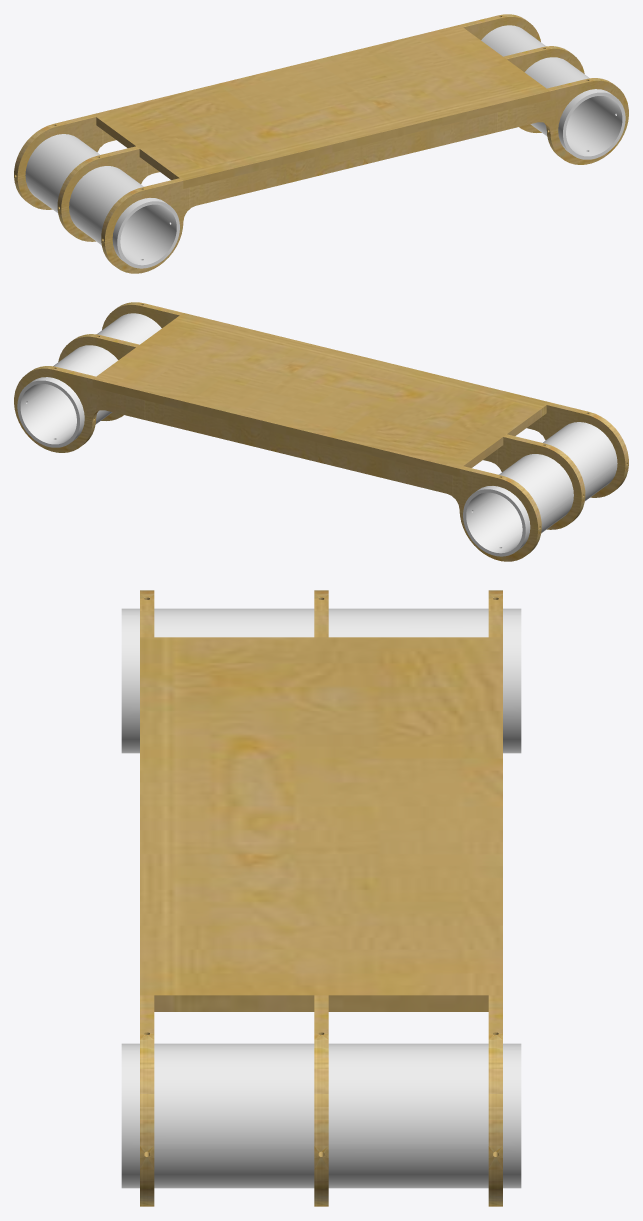
Rendered from elevador.glb.
3 views of the same model, one above another, from view 1: azimuth 30°, elevation 25°; view 2: azimuth 150°, elevation 25°; view 3: azimuth 270°, elevation 25° (orthographic). The views are drawn at different scales.
Bounding box in the file's own units: 1 × 0.15 × 0.33.
3 materials, 2 textured.
